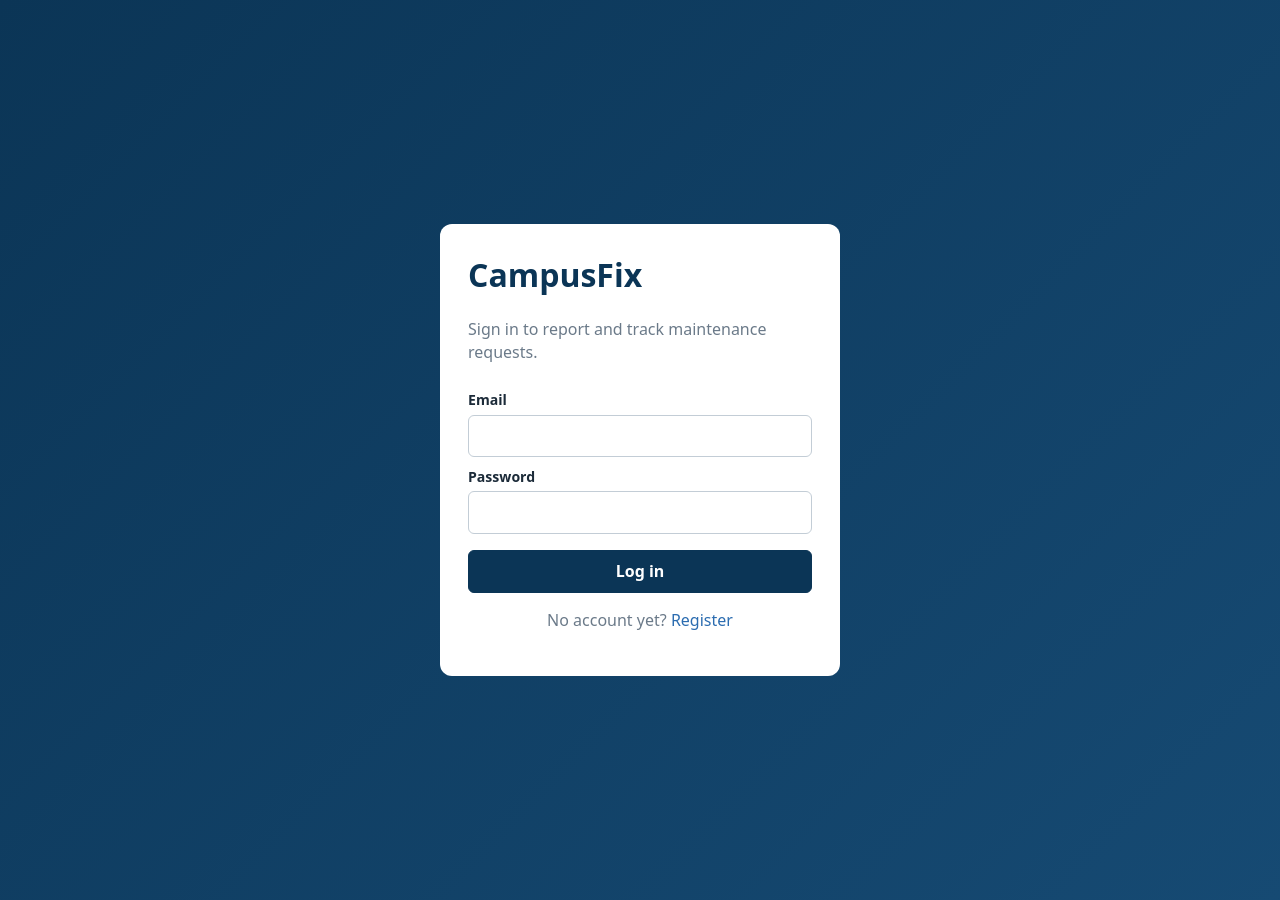
Test case: Login form › shows validation messages and makes no API call when fields are empty
Click the button "Log in" at (640, 572), box [468, 550, 812, 593]
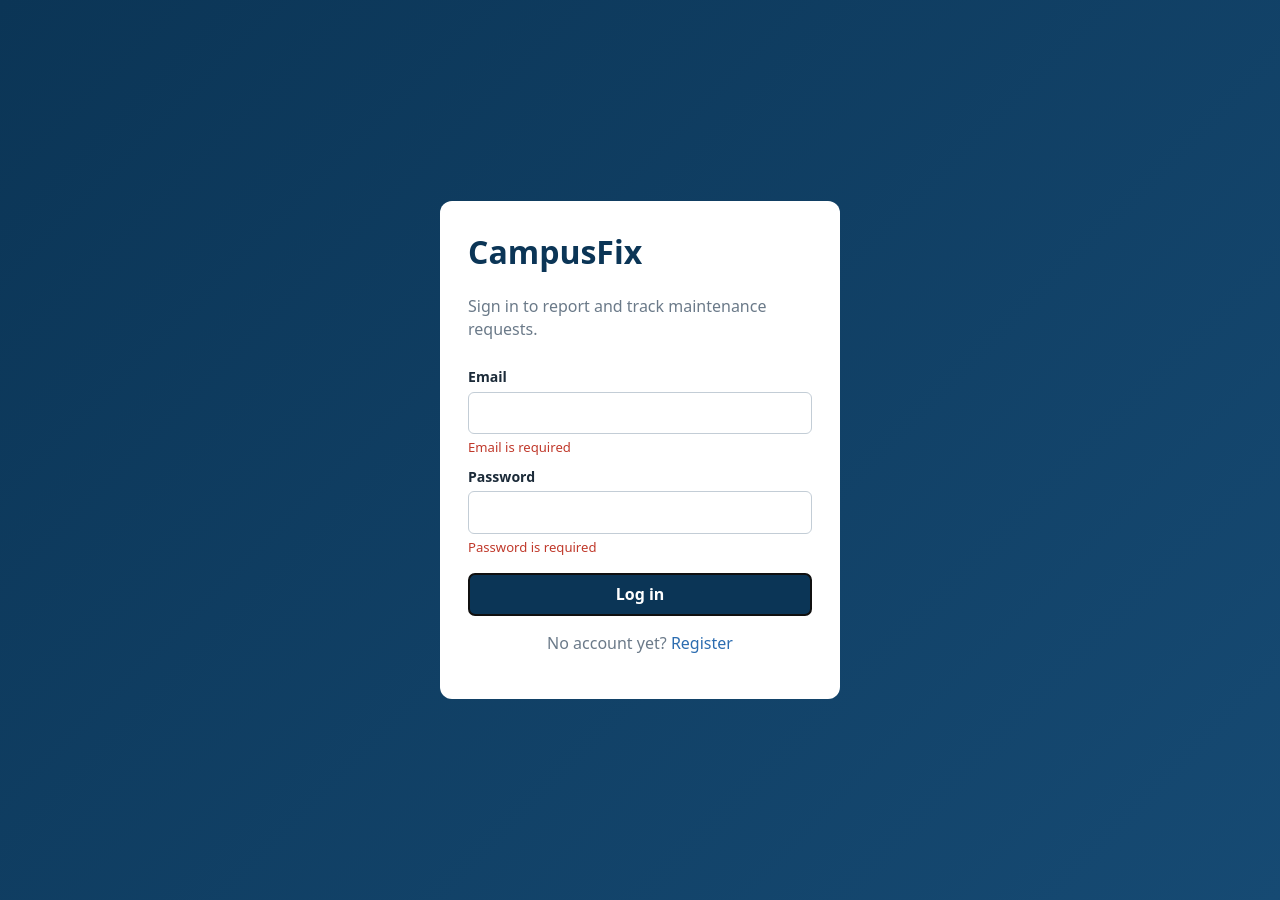
Check: the text "Email is required" is shown, box [468, 438, 571, 456]
Check: the text "Password is required" is shown, box [468, 538, 596, 556]
